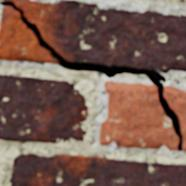brick: (0, 75, 88, 143), (10, 153, 185, 185)
broken_brick: (8, 0, 185, 72), (100, 82, 178, 149), (0, 6, 59, 63), (164, 86, 185, 151)
crack: (1, 0, 183, 151)
